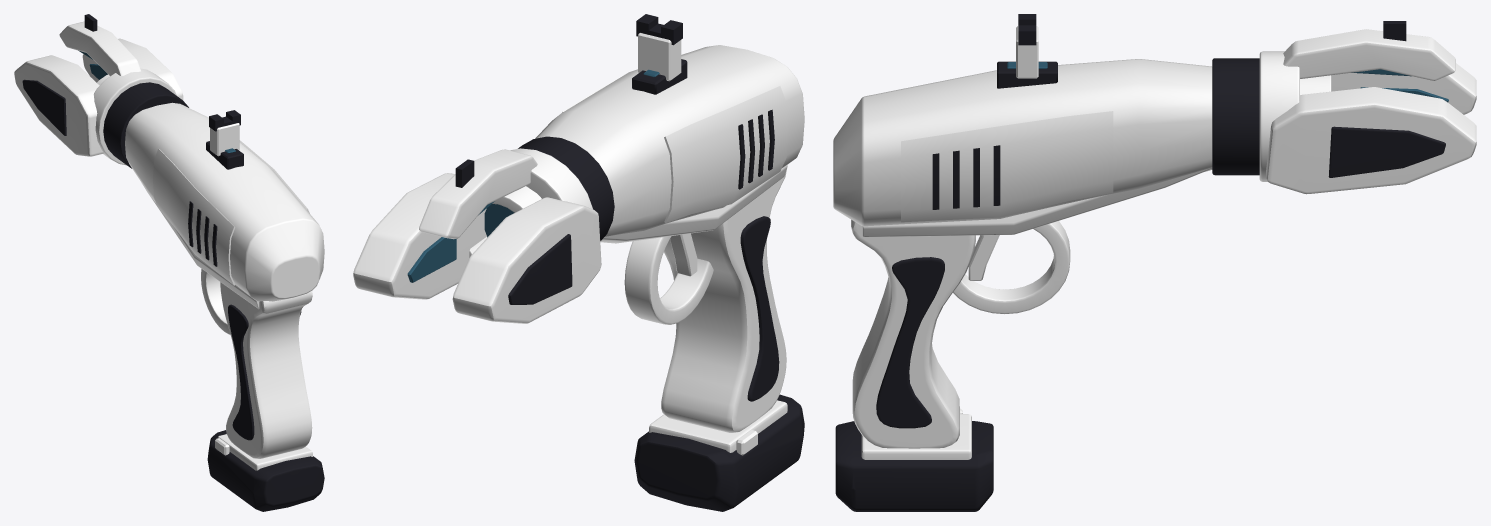
File: game-tool-cutter.glb
3 views of the same model, side by side, from view 1: azimuth 30°, elevation 25°; view 2: azimuth 150°, elevation 25°; view 3: azimuth 270°, elevation 25° (orthographic). The views are drawn at different scales.
Visible parts, largest first — view 1: part_rising_tool_motor_housing, part_tool_grip_chassis, part_removable_battery, part_jaw_cartridge_-1, part_curved_motor_service_plate_-1, part_head_motor_collar, part_upper_thermal_cartridge, part_tool_head_lock_ring, part_tool_rubber_palm_-1, part_jaw_thermal_insert_-1, part_jaw_cartridge_1, part_tool_safety_guard (+5 smaller); view 2: part_rising_tool_motor_housing, part_tool_grip_chassis, part_jaw_cartridge_-1, part_removable_battery, part_curved_motor_service_plate_-1, part_jaw_cartridge_1, part_upper_thermal_cartridge, part_tool_safety_guard, part_tool_rubber_palm_-1, part_head_motor_collar, part_jaw_thermal_insert_-1, part_motor_lower_cradle (+9 smaller); view 3: part_rising_tool_motor_housing, part_curved_motor_service_plate_1, part_jaw_cartridge_1, part_tool_grip_chassis, part_removable_battery, part_upper_thermal_cartridge, part_head_motor_collar, part_tool_rubber_palm_1, part_jaw_thermal_insert_1, part_motor_lower_cradle, part_tool_safety_guard, part_tool_head_lock_ring (+5 smaller).
Part boxes in pixels (<box>): part_rising_tool_motor_housing: <box>125,102,324,301</box>; part_tool_grip_chassis: <box>220,282,312,458</box>; part_removable_battery: <box>207,430,324,511</box>; part_jaw_cartridge_-1: <box>14,55,103,156</box>; part_curved_motor_service_plate_-1: <box>153,148,235,285</box>; part_head_motor_collar: <box>103,82,188,168</box>; part_upper_thermal_cartridge: <box>59,21,140,76</box>; part_tool_head_lock_ring: <box>93,68,176,165</box>; part_tool_rubber_palm_-1: <box>228,304,254,440</box>; part_jaw_thermal_insert_-1: <box>22,79,66,135</box>; part_jaw_cartridge_1: <box>82,38,183,100</box>; part_tool_safety_guard: <box>201,269,230,334</box>; part_rising_tool_motor_housing: <box>535,45,804,240</box>; part_tool_grip_chassis: <box>661,170,786,432</box>; part_jaw_cartridge_-1: <box>452,197,601,323</box>; part_removable_battery: <box>634,394,804,511</box>; part_curved_motor_service_plate_-1: <box>664,86,788,223</box>; part_jaw_cartridge_1: <box>353,173,486,299</box>; part_upper_thermal_cartridge: <box>419,149,537,239</box>; part_tool_safety_guard: <box>624,236,713,324</box>; part_tool_rubber_palm_-1: <box>740,216,779,401</box>; part_head_motor_collar: <box>518,136,614,240</box>; part_jaw_thermal_insert_-1: <box>508,234,572,304</box>; part_motor_lower_cradle: <box>600,165,787,243</box>; part_rising_tool_motor_housing: <box>833,59,1212,226</box>; part_curved_motor_service_plate_1: <box>901,111,1113,222</box>; part_jaw_cartridge_1: <box>1266,87,1476,194</box>; part_tool_grip_chassis: <box>851,219,975,448</box>; part_removable_battery: <box>835,421,993,511</box>; part_upper_thermal_cartridge: <box>1283,29,1455,80</box>; part_head_motor_collar: <box>1212,58,1259,175</box>; part_tool_rubber_palm_1: <box>876,257,944,428</box>; part_jaw_thermal_insert_1: <box>1328,126,1445,177</box>; part_motor_lower_cradle: <box>862,167,1212,236</box>; part_tool_safety_guard: <box>953,221,1070,313</box>; part_tool_head_lock_ring: <box>1259,51,1299,181</box>.
Size of what is drawn, in the model's own units: 0.0708 by 0.232 by 0.285.
